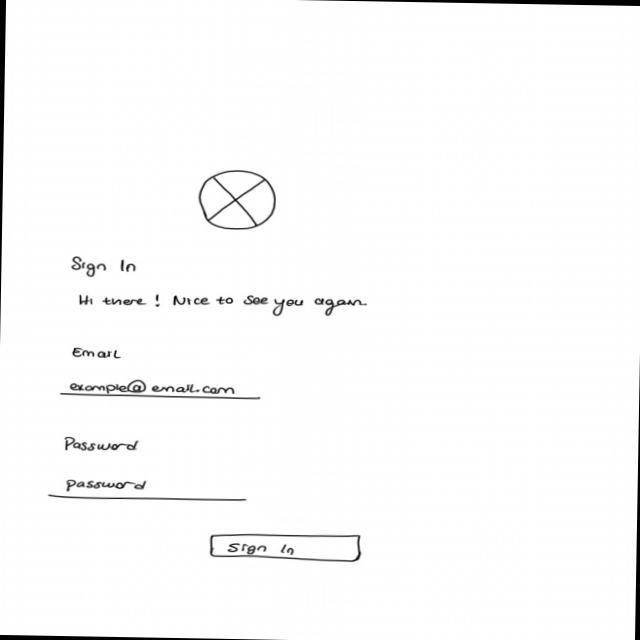button: (209, 531, 364, 562)
image: (78, 291, 370, 319), (196, 170, 280, 232), (69, 257, 140, 279), (64, 436, 143, 455), (71, 347, 124, 361)
input: (49, 478, 250, 504), (59, 377, 264, 402)
